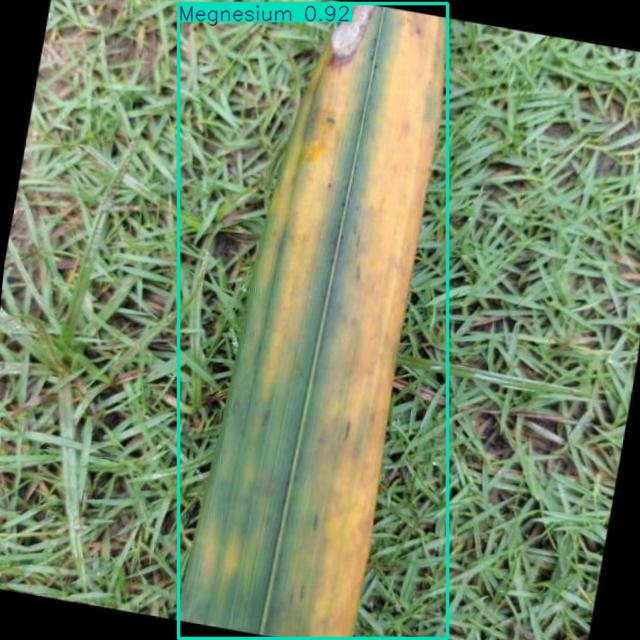Megnesium: (178, 4, 448, 639)
